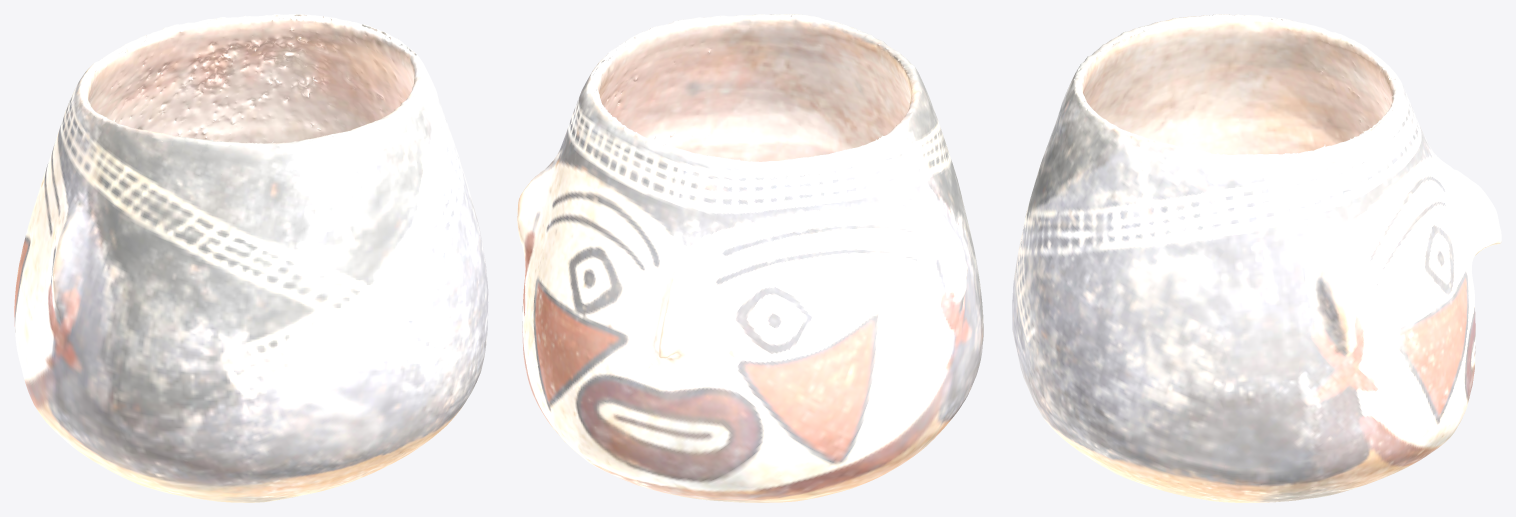
Rendered from vaso_escultorico_de_estilo_nasca.glb.
3 renders of one model, left to right at view 1: azimuth 30°, elevation 25°; view 2: azimuth 150°, elevation 25°; view 3: azimuth 270°, elevation 25°, orthographic. The views are drawn at different scales.
Visible parts, largest first — view 1: Model; view 2: Model; view 3: Model.
Part boxes in pixels (bbox=[...]): Model: bbox=[14, 14, 488, 502]; Model: bbox=[517, 14, 983, 502]; Model: bbox=[1012, 14, 1501, 502].
Size of the model in its own units: 1.78 by 1.65 by 1.85.
